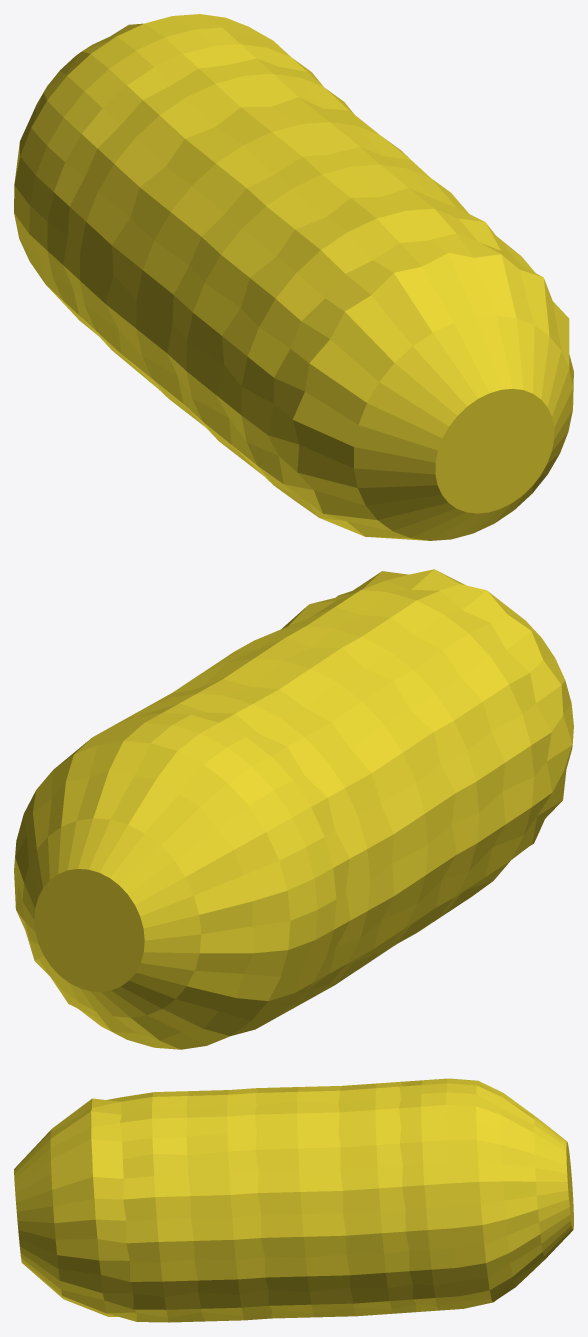
File: corn.fbx
3 views of the same model, one above another, from view 1: azimuth 30°, elevation 25°; view 2: azimuth 150°, elevation 25°; view 3: azimuth 270°, elevation 25° (orthographic). The views are drawn at different scales.
Parts seen in each view (by area): view 1: Cylinder; view 2: Cylinder; view 3: Cylinder.
Part boxes in pixels (x1,y1,x2,y2): Cylinder: (14, 14, 573, 540); Cylinder: (14, 569, 573, 1049); Cylinder: (14, 1078, 573, 1322).
Bounding box in the file's own units: 202 × 213 × 483.
